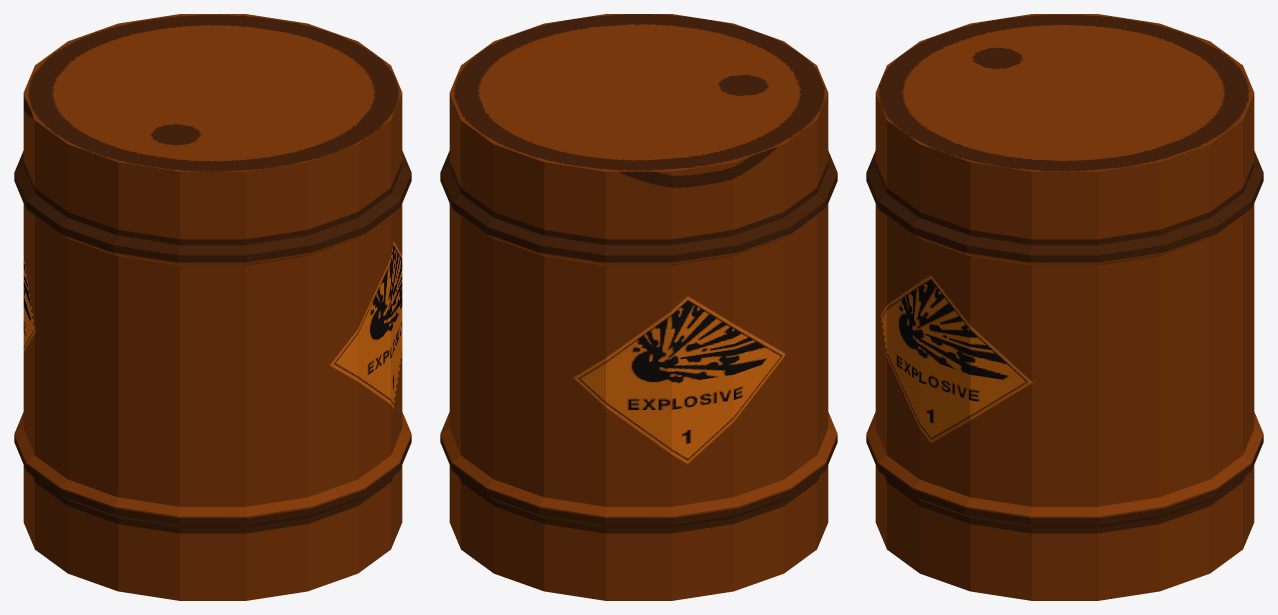
File: barrel.obj
The picture shows the model from 3 angles, left to right: view 1: azimuth 30°, elevation 25°; view 2: azimuth 150°, elevation 25°; view 3: azimuth 270°, elevation 25°; orthographic projection.
Parts seen in each view (by area): view 1: Cylinder; view 2: Cylinder; view 3: Cylinder.
Part boxes in pixels (bbox=[...]): Cylinder: bbox=[14, 14, 411, 600]; Cylinder: bbox=[440, 14, 837, 600]; Cylinder: bbox=[866, 14, 1263, 600].
Size of the model in its own units: 1.24 by 1.5 by 1.26.
Materials: 1 (1 with a texture image).
